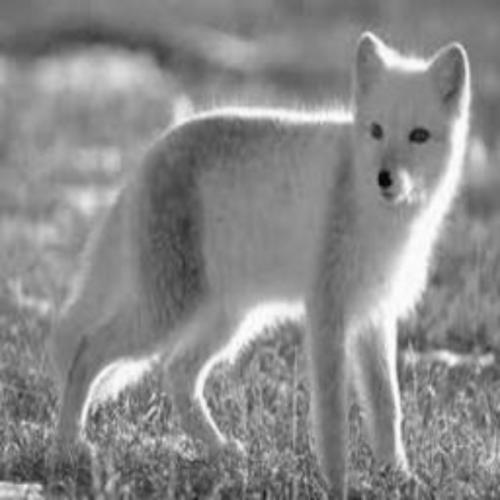arctic_fox-endangered: (54, 30, 472, 491)
